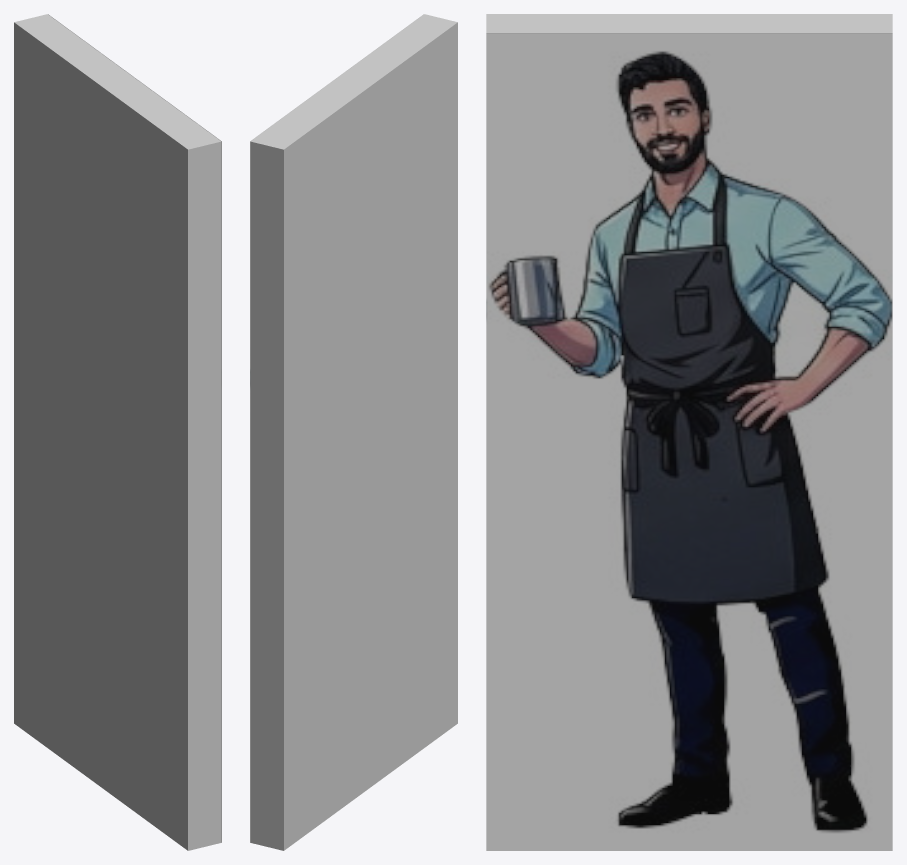
3 views of the same model, side by side, from view 1: azimuth 30°, elevation 25°; view 2: azimuth 150°, elevation 25°; view 3: azimuth 270°, elevation 25° (orthographic). The views are drawn at different scales.
Visible parts, largest first — view 1: 立方体, 平面; view 2: 立方体, 平面; view 3: 平面, 立方体.
Part boxes in pixels (left/top/right/bottom): 立方体: left=14, top=14, right=221, bottom=850; 平面: left=48, top=14, right=221, bottom=842; 立方体: left=250, top=14, right=457, bottom=850; 平面: left=250, top=14, right=423, bottom=842; 平面: left=486, top=33, right=892, bottom=850; 立方体: left=486, top=14, right=892, bottom=33.
Bounding box in the file's own units: 0.0101 × 0.09 × 0.2.
Materials: 1 (1 with a texture image).
